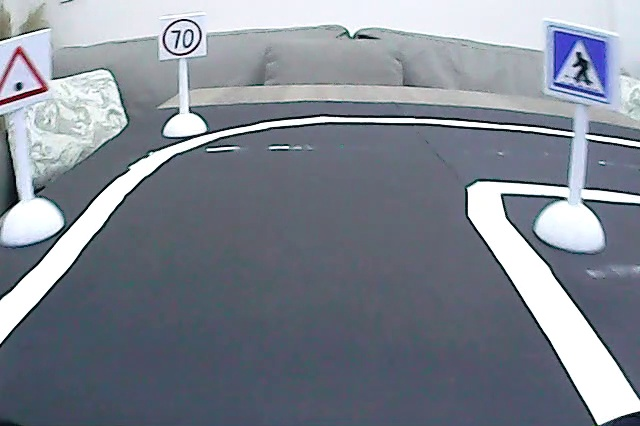green light: (1, 44, 54, 109)
pedestrian crossing: (548, 24, 614, 105)
speed limit 70: (161, 17, 205, 58)
